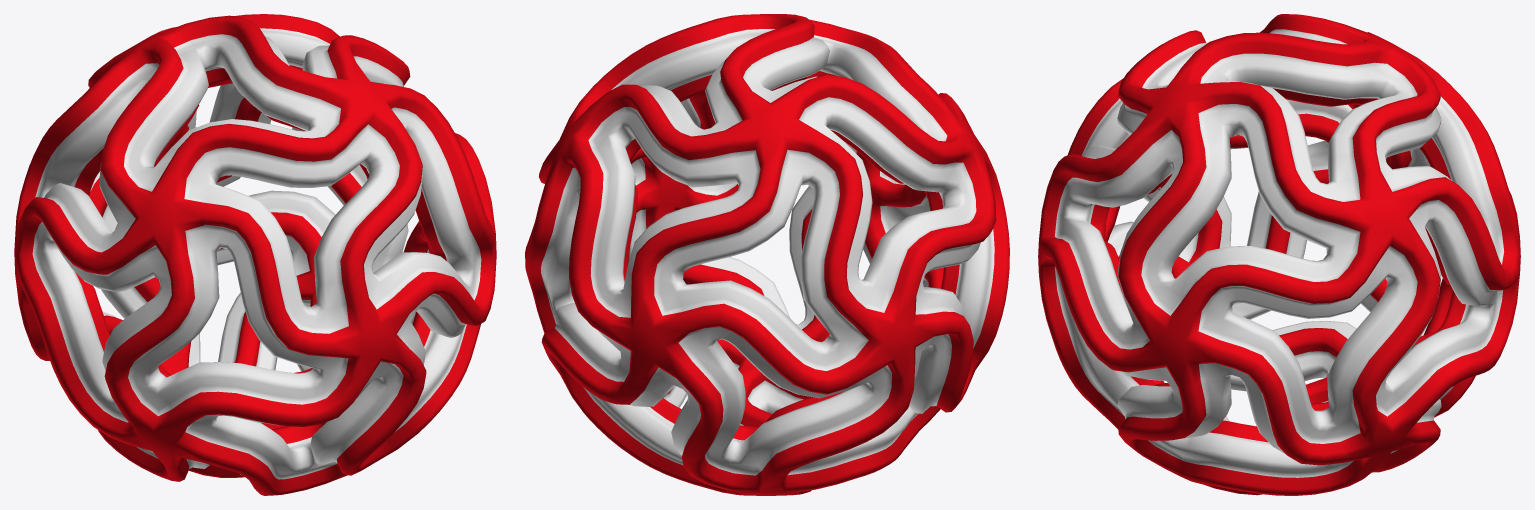
Rendered from Star Ball LP.fbx.
3 renders of one model, left to right at view 1: azimuth 30°, elevation 25°; view 2: azimuth 150°, elevation 25°; view 3: azimuth 270°, elevation 25°, orthographic.
Parts seen in each view (by area): view 1: Icosphere; view 2: Icosphere; view 3: Icosphere.
Part boxes in pixels (x1,y1,x2,y2): Icosphere: (14, 14, 496, 495); Icosphere: (525, 14, 1009, 495); Icosphere: (1038, 14, 1520, 495).
Bounding box in the file's own units: 0.9978 × 1 × 0.9975.
